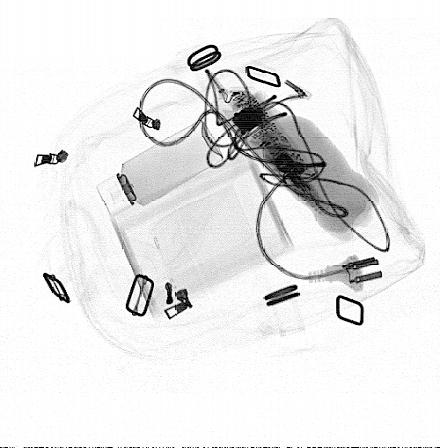Sprayer: (96, 119, 225, 218)
